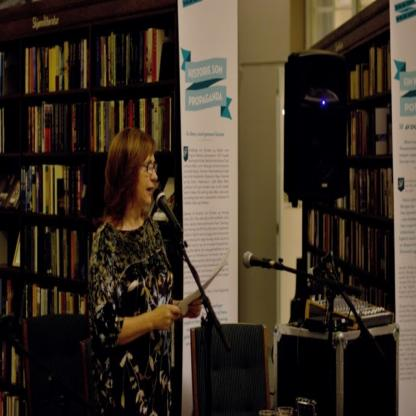book: (5, 19, 155, 343), (305, 251, 407, 318), (305, 201, 394, 277), (337, 164, 395, 219), (348, 105, 392, 158), (347, 46, 390, 94)
